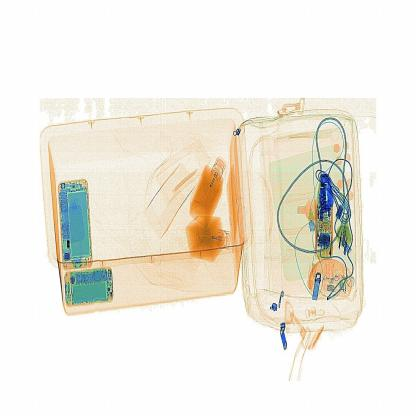scissors: (308, 168, 342, 218)
